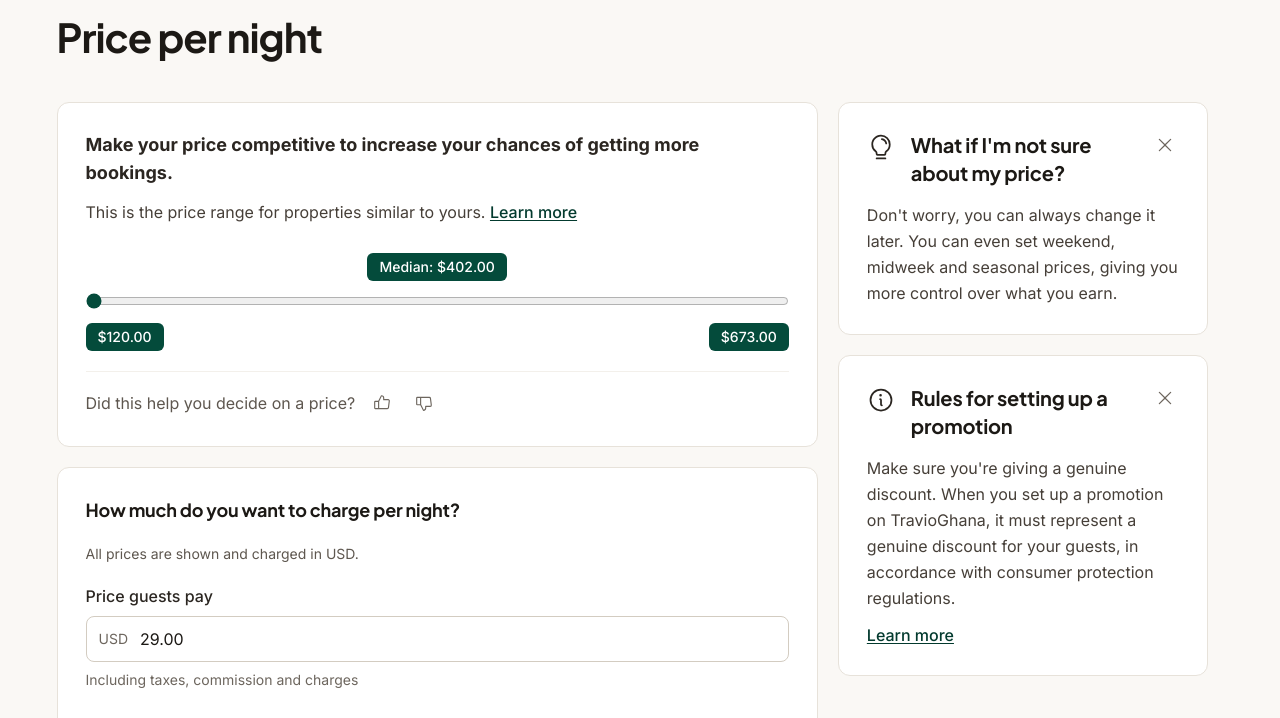
Scenario: Step13PricePerNight — price per night › dismisses the tips cards independently
Click the button named "Dismiss price tips". click: click(1166, 145)
box: [1152,131,1180,159]
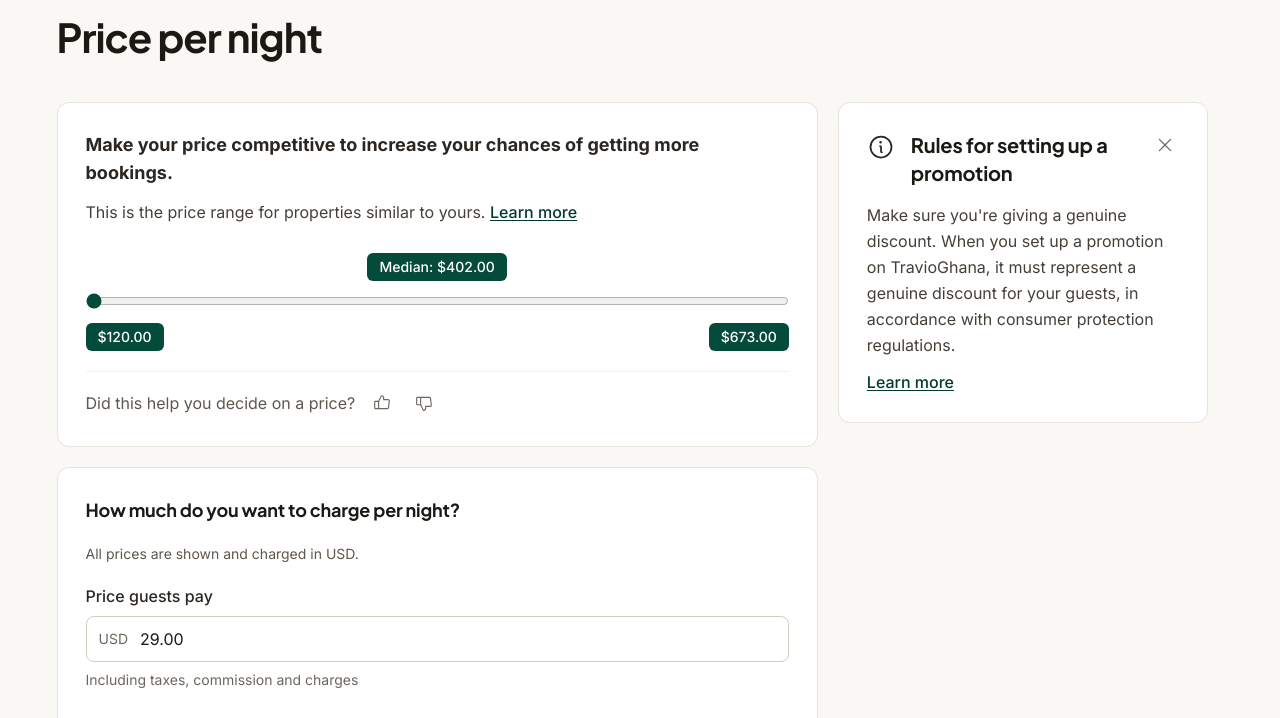
Expected: the heading "Rules for setting up a promotion" is shown, [911,131,1136,186]
Now the heading "What if I'm not sure about my price?" is gone
Click the button named "Dismiss promotion tips". click: click(1166, 145)
box: [1152,131,1180,159]
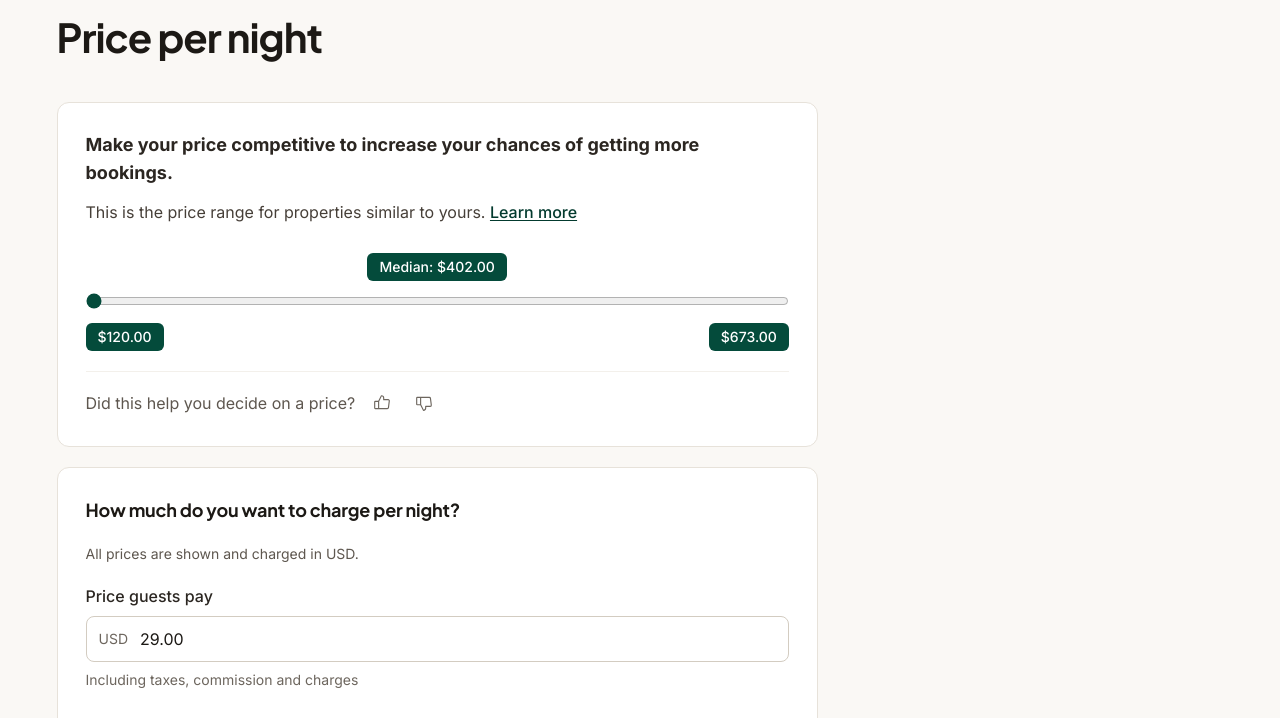
Now the heading "Rules for setting up a promotion" is gone
